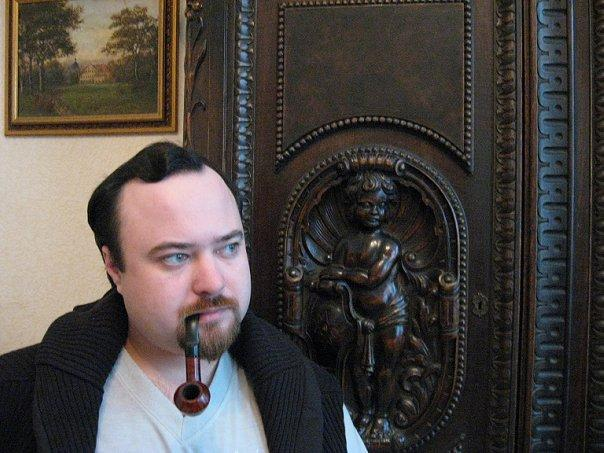trubka: (173, 314, 210, 416)
